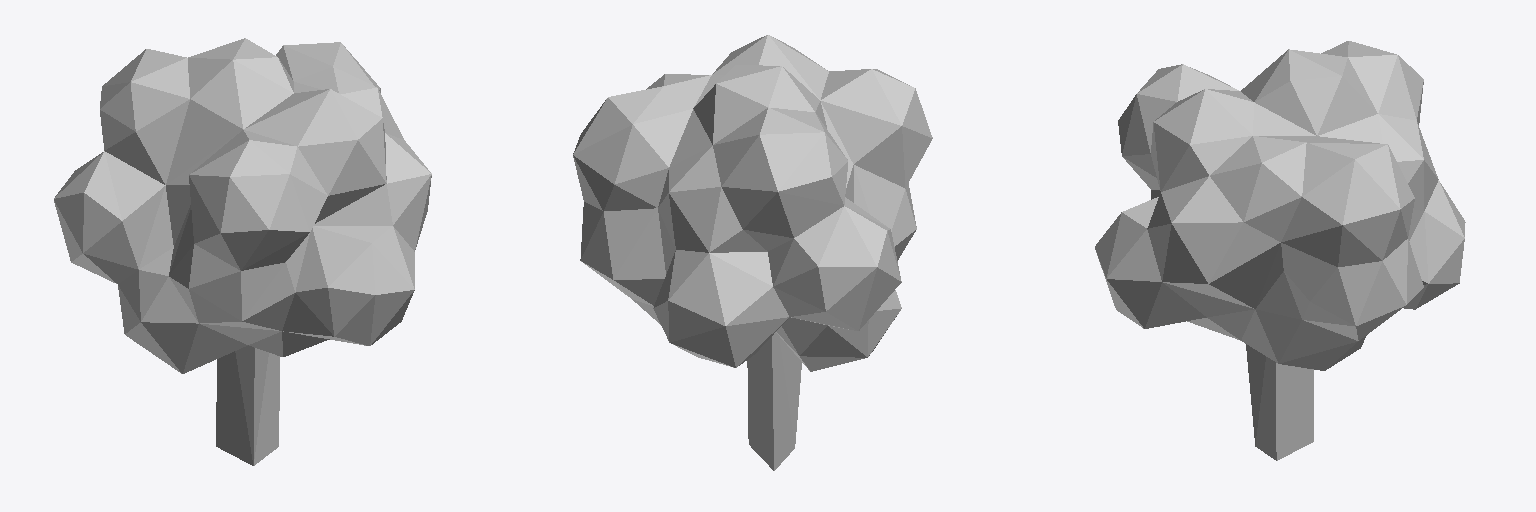
Rendered from tree1.obj.
3 renders of one model, left to right at view 1: azimuth 30°, elevation 25°; view 2: azimuth 150°, elevation 25°; view 3: azimuth 270°, elevation 25°, orthographic.
Parts seen in each view (by area): view 1: Tree8; view 2: Tree8; view 3: Tree8.
Boxes of the visible parts, box(x1,y1,x2,y2) form: Tree8: box(54, 38, 431, 465); Tree8: box(573, 35, 932, 470); Tree8: box(1095, 41, 1465, 460).
Size of the model in its own units: 2.11 by 2.55 by 2.17.